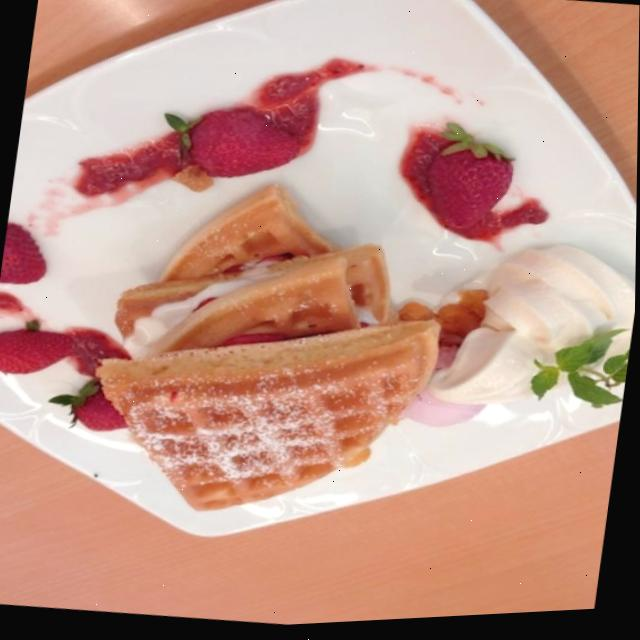面包点心: (104, 84, 479, 635)
